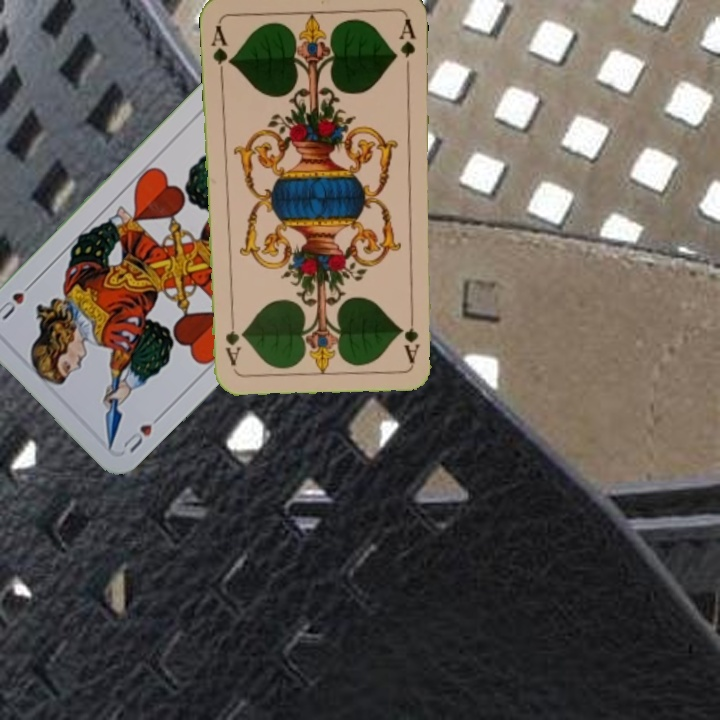GA: (207, 22, 235, 81), (403, 305, 422, 364)
HU: (119, 408, 167, 455)
